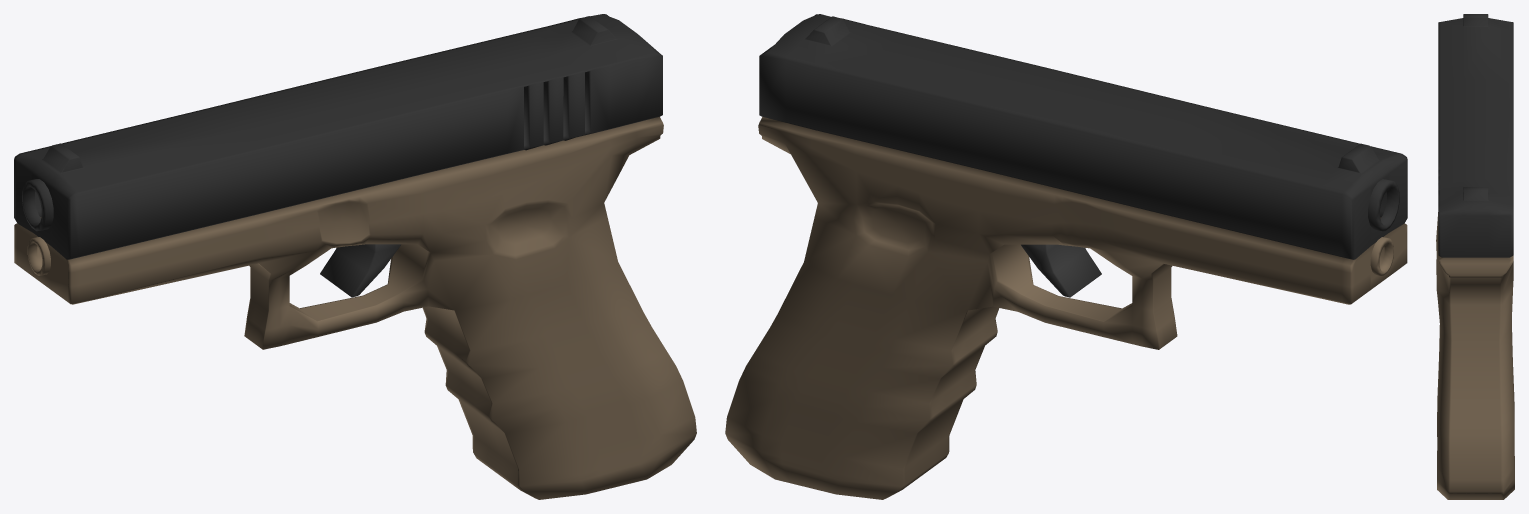
Rendered from Glock.glb.
The picture shows the model from 3 angles, left to right: view 1: azimuth 30°, elevation 25°; view 2: azimuth 150°, elevation 25°; view 3: azimuth 270°, elevation 25°; orthographic projection. The views are drawn at different scales.
Parts seen in each view (by area): view 1: Cube, Cube.001; view 2: Cube, Cube.001; view 3: Cube.
Boxes of the visible parts, bbox=[...] form: Cube: bbox=[14, 14, 696, 499]; Cube.001: bbox=[320, 244, 400, 297]; Cube: bbox=[725, 14, 1407, 499]; Cube.001: bbox=[1021, 244, 1101, 297]; Cube: bbox=[1436, 14, 1514, 499].
Bounding box in the file's own units: 8.74 × 5.73 × 1.39.
